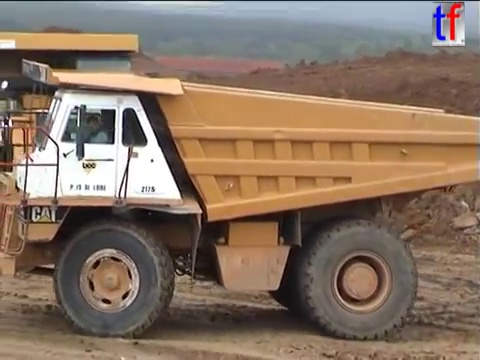truck: (1, 53, 480, 342), (1, 26, 162, 281)
